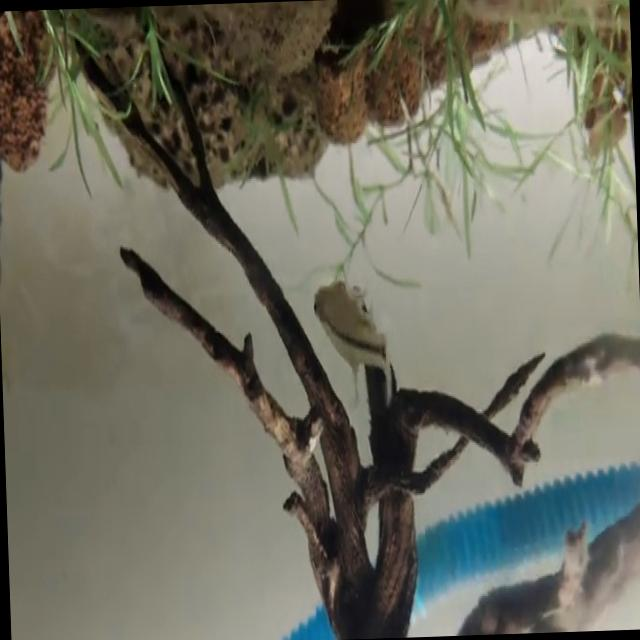Cakil Baligi: (308, 272, 392, 403)
